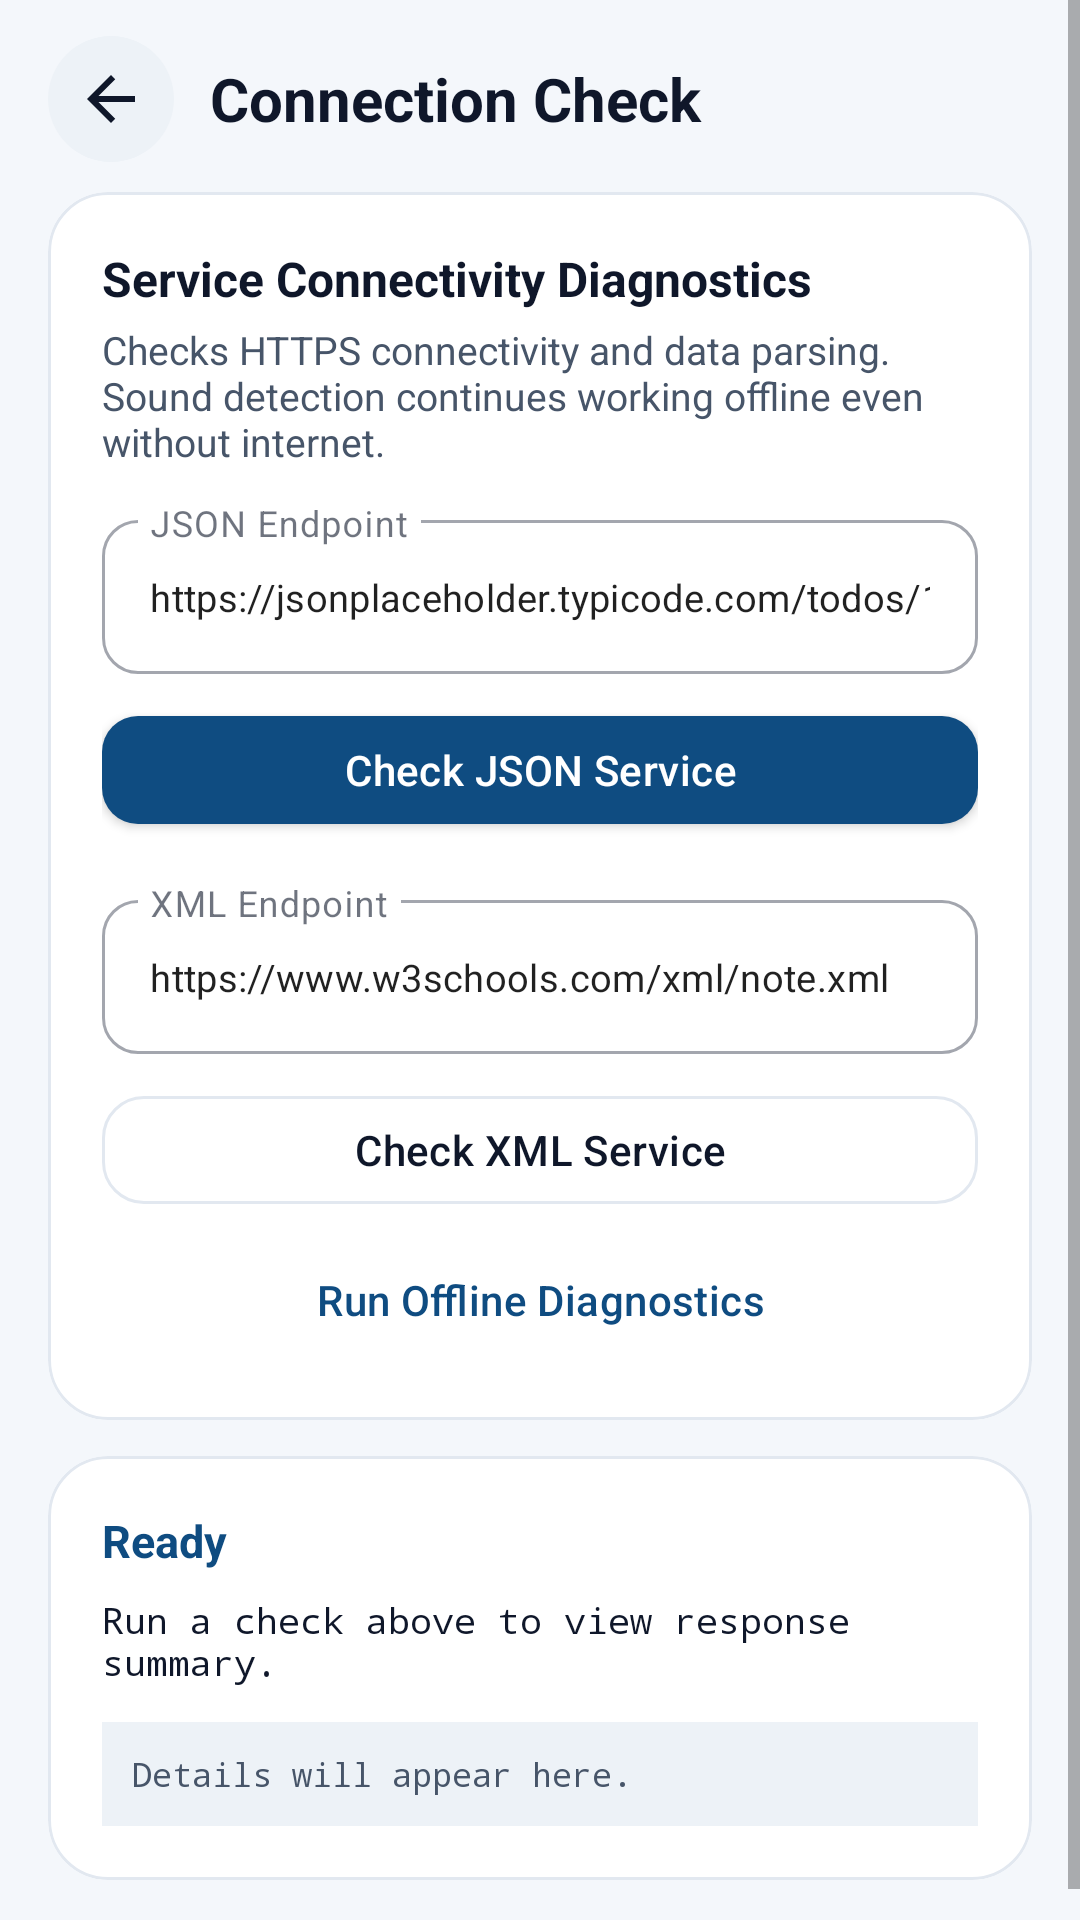

Point at icon controls on the screen. Image size 1080px×1920px, points as point (x, y).
Back: point (111, 99)
